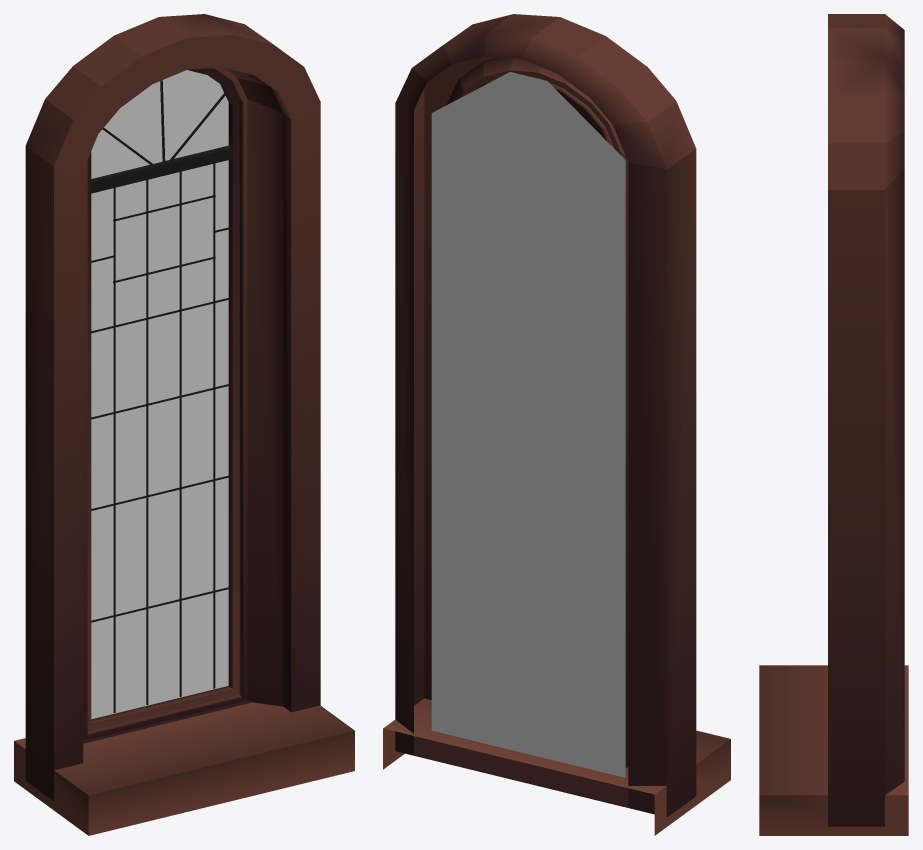
The model's file is window.fbx.
3 renders of one model, left to right at view 1: azimuth 30°, elevation 25°; view 2: azimuth 150°, elevation 25°; view 3: azimuth 270°, elevation 25°, orthographic. The views are drawn at different scales.
Parts seen in each view (by area): view 1: janela; view 2: janela; view 3: janela.
Part boxes in pixels (x1,y1,x2,y2): janela: (14, 14, 354, 835); janela: (383, 14, 730, 835); janela: (759, 14, 908, 835).
Size of the model in its own units: 56.11 by 149 by 27.22.
